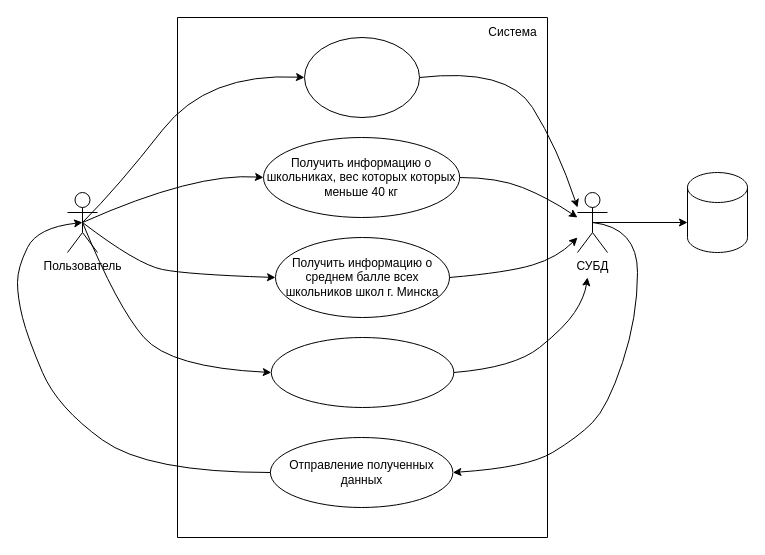
Image size: 765x555. Some labels were removed from this diagram. The shapes that lost their labels are listed below. From the top down, each one's box as (x1, y1, x2, y2) in pixels, then its label:
(304, 36, 420, 118): Получить информацию об успеваемости всех школьников
(686, 172, 748, 252): БД
(270, 336, 454, 408): Получить информацию об ученике
